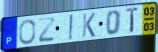0: (105, 9, 121, 37)
I: (68, 14, 74, 41)
K: (82, 12, 97, 39)
O: (18, 19, 37, 46)
T: (125, 6, 141, 35)
Z: (38, 17, 57, 44)
